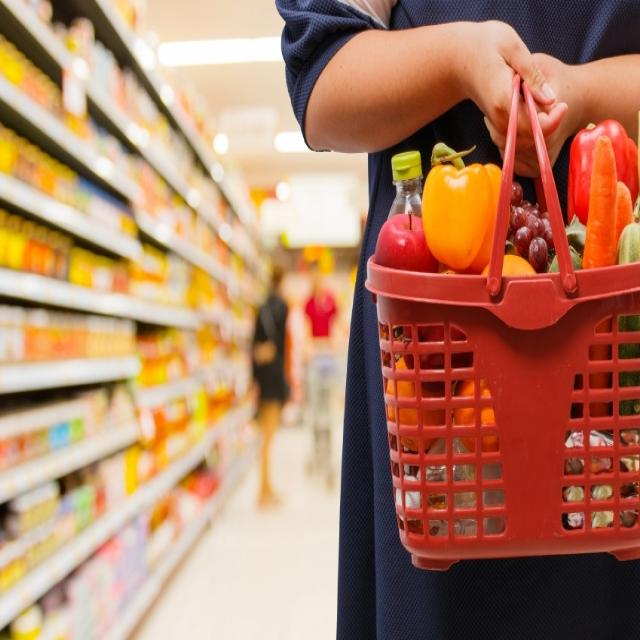Plastics: (355, 256, 640, 573)
